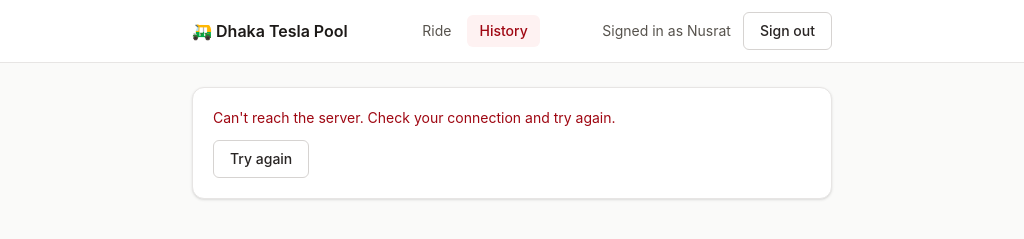
Scenario: passenger history › offers a retry when history cannot be loaded
The width and height of the screenshot is (1024, 239).
What coordinates should you click on to do the following:
click the button "Try again"
I would click on:
 (261, 159)
Its box is [213, 140, 309, 178].
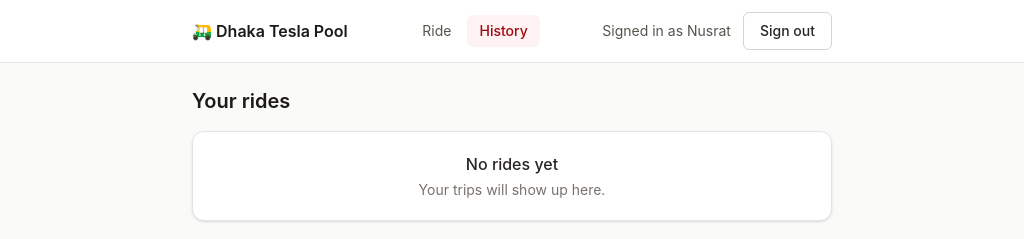
Expected: the text "No rides yet" is shown, [466, 154, 558, 174]
